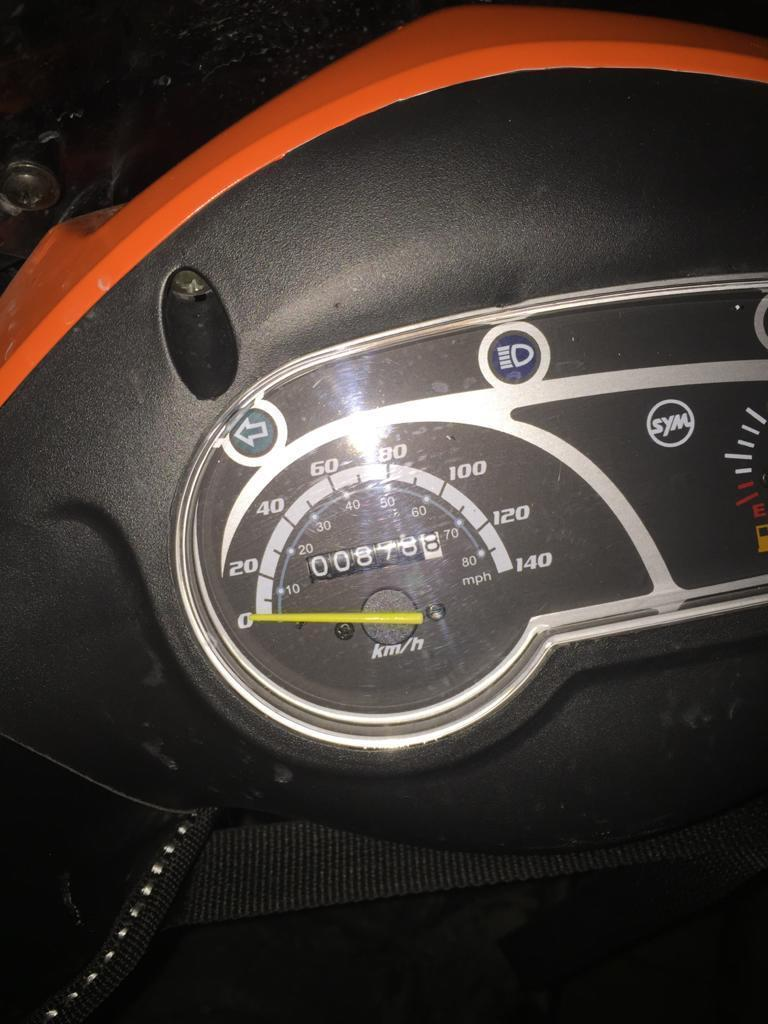0: (309, 555, 330, 577), (332, 549, 351, 572), (305, 541, 314, 553), (324, 521, 332, 531)
3: (315, 521, 323, 534)
7: (378, 538, 395, 561), (442, 528, 449, 540)
8: (398, 533, 419, 559), (354, 541, 374, 568), (421, 529, 441, 555)
odometer: (303, 522, 450, 586)
